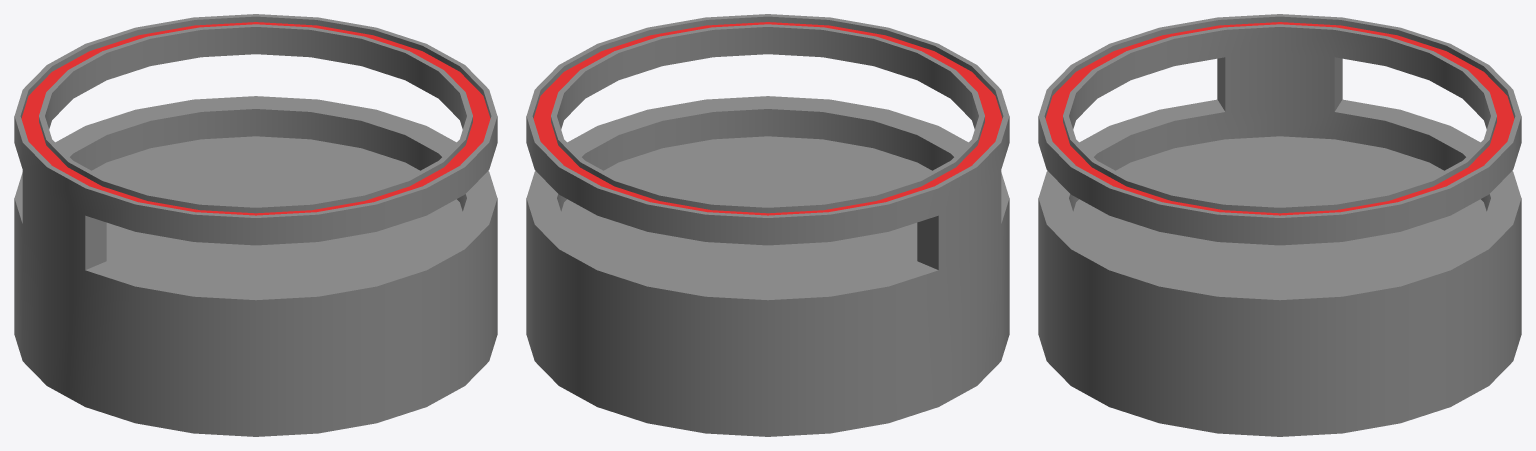
File: resourceModule_001.fbx
3 renders of one model, left to right at view 1: azimuth 30°, elevation 25°; view 2: azimuth 150°, elevation 25°; view 3: azimuth 270°, elevation 25°, orthographic.
Parts seen in each view (by area): view 1: resourceModule1, ResourceDropOffPoint; view 2: resourceModule1, ResourceDropOffPoint; view 3: resourceModule1, ResourceDropOffPoint.
Boxes of the visible parts, x1,y1,x2,y2 form: resourceModule1: [14, 14, 497, 436]; ResourceDropOffPoint: [21, 22, 490, 215]; resourceModule1: [526, 14, 1009, 436]; ResourceDropOffPoint: [533, 22, 1002, 215]; resourceModule1: [1038, 14, 1521, 436]; ResourceDropOffPoint: [1045, 22, 1514, 215].
Size of the model in its own units: 160 by 80 by 160.
